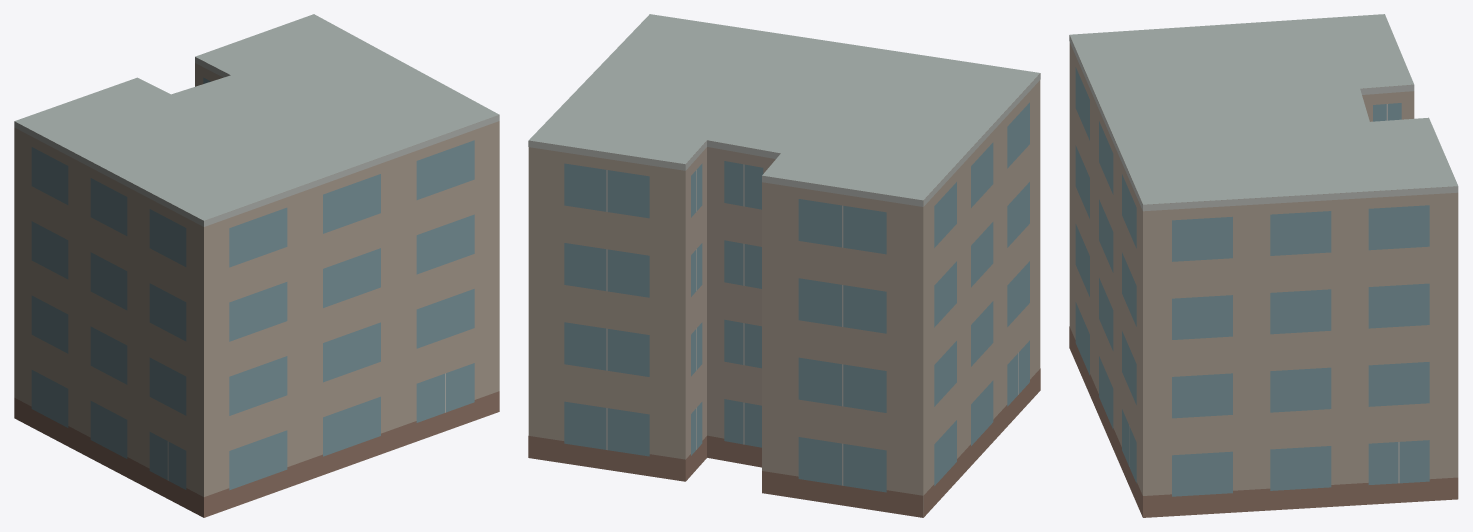
The model's file is survey-upis-33039936.glb.
3 views of the same model, side by side, from view 1: azimuth 30°, elevation 25°; view 2: azimuth 150°, elevation 25°; view 3: azimuth 270°, elevation 25° (orthographic). The views are drawn at different scales.
Parts seen in each view (by area): view 1: survey-upis-33039936.tmp; view 2: survey-upis-33039936.tmp; view 3: survey-upis-33039936.tmp.
Part boxes in pixels (x1,y1,x2,y2): survey-upis-33039936.tmp: [14, 14, 499, 517]; survey-upis-33039936.tmp: [528, 14, 1040, 517]; survey-upis-33039936.tmp: [1069, 14, 1458, 517].
Size of the model in its own units: 15.22 by 11.65 by 13.12.
